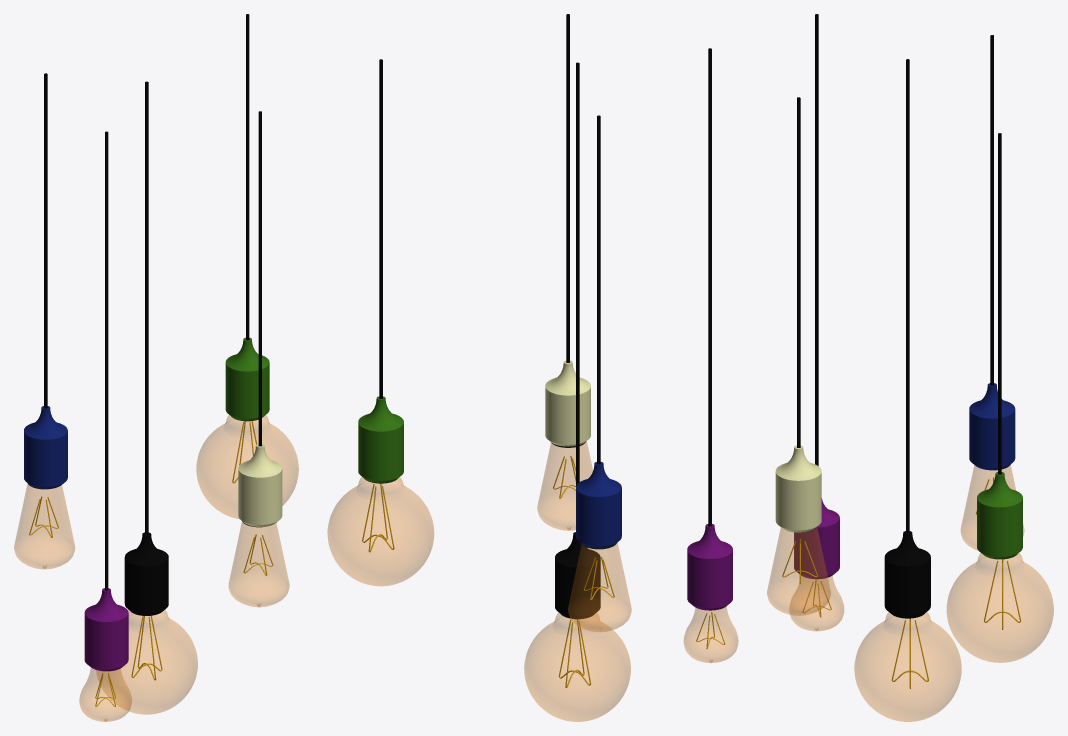
Rendered from 001_Delmi.glb.
The picture shows the model from 3 angles, left to right: view 1: azimuth 30°, elevation 25°; view 2: azimuth 150°, elevation 25°; view 3: azimuth 270°, elevation 25°; orthographic projection. The views are drawn at different scales.
Visible parts, largest first — view 1: root; view 2: root; view 3: root.
Part boxes in pixels (x1,y1,x2,y2): root: [14, 14, 298, 721]; root: [327, 14, 738, 721]; root: [767, 14, 1053, 721].
Size of the model in its own units: 0.3892 by 0.7896 by 0.3114.
10 materials, 2 textured.
